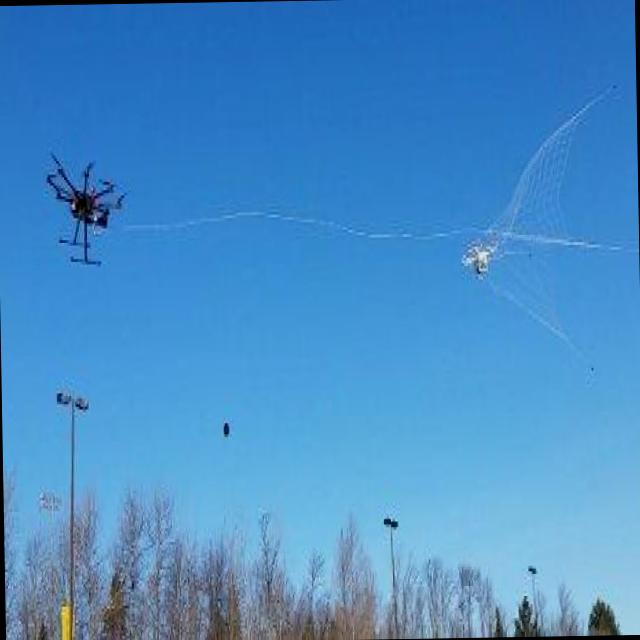drone: (44, 150, 127, 270)
